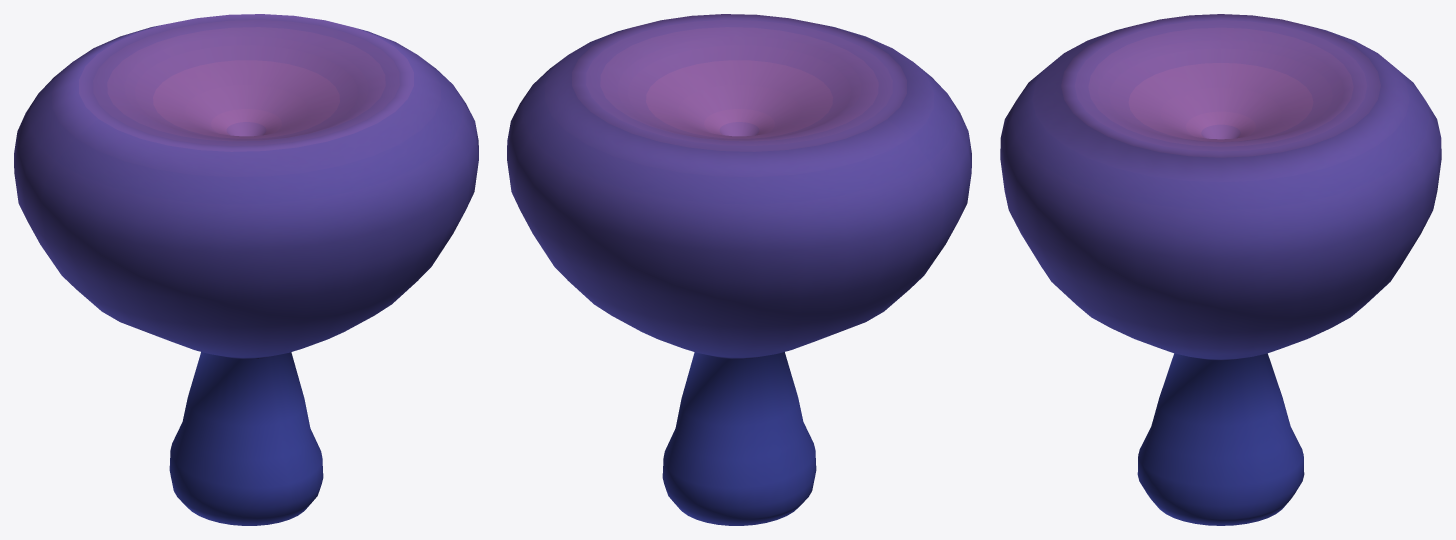
The model's file is HongoEnano.obj.
3 renders of one model, left to right at view 1: azimuth 30°, elevation 25°; view 2: azimuth 150°, elevation 25°; view 3: azimuth 270°, elevation 25°, orthographic.
Visible parts, largest first — view 1: Sphere; view 2: Sphere; view 3: Sphere.
Part boxes in pixels (x1,y1,x2,y2): Sphere: (14,14,478,525); Sphere: (507,14,971,525); Sphere: (1000,14,1441,525).
Size of the model in its own units: 0.6148 by 0.5937 by 0.5741.
